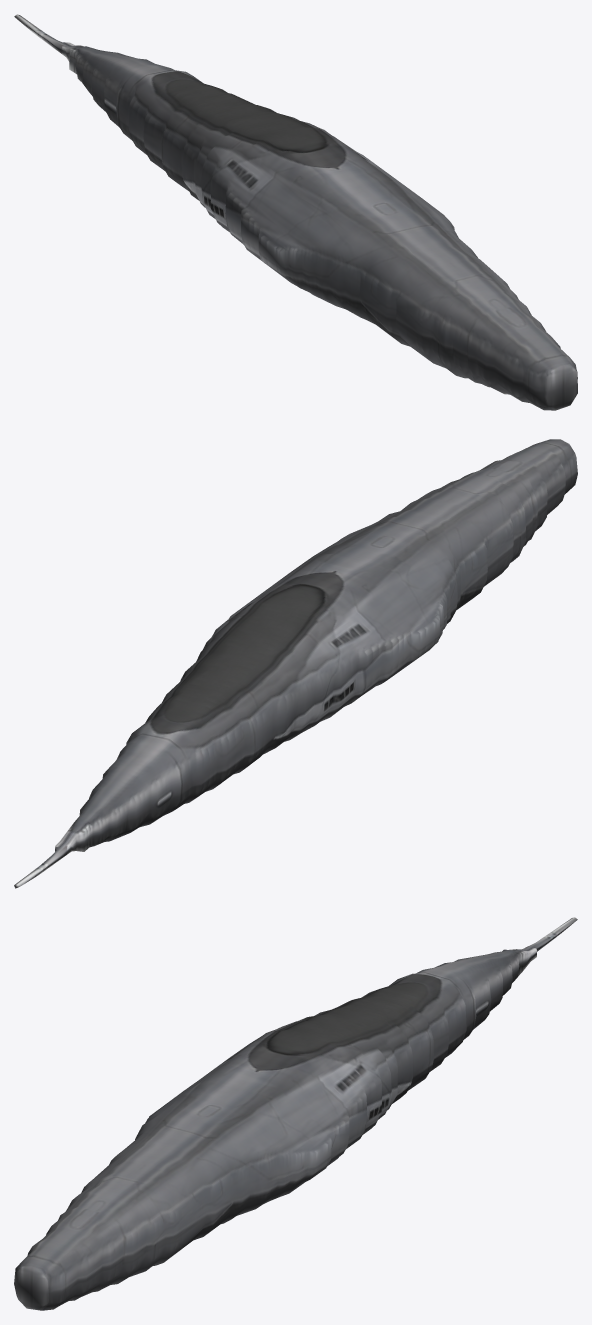
The model's file is fuselage.glb.
3 views of the same model, one above another, from view 1: azimuth 30°, elevation 25°; view 2: azimuth 150°, elevation 25°; view 3: azimuth 330°, elevation 25° (orthographic).
Visible parts, largest first — view 1: fuselage; view 2: fuselage; view 3: fuselage.
Boxes of the visible parts, x1=… form: fuselage: x1=14, y1=14, x2=577, y2=410; fuselage: x1=14, y1=439, x2=577, y2=888; fuselage: x1=14, y1=917, x2=577, y2=1310.
Size of the model in its own units: 0.9757 by 0.6266 by 5.72.
1 material, 1 textured.
